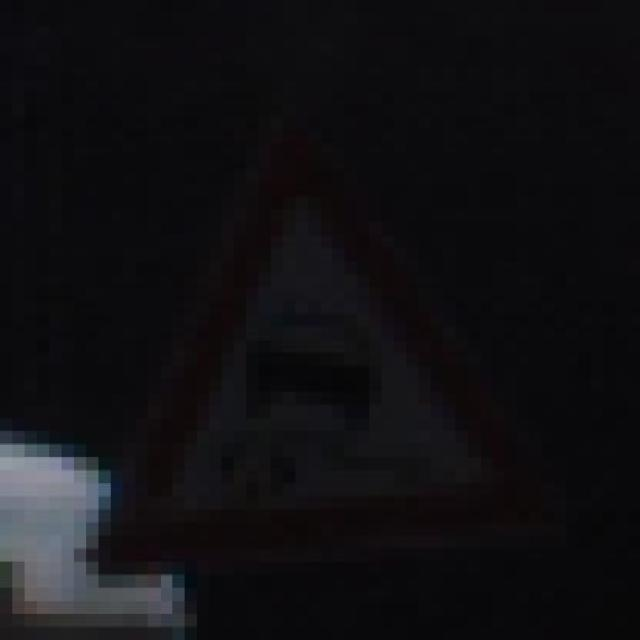Slippery Road Ahead: (61, 130, 542, 588)
